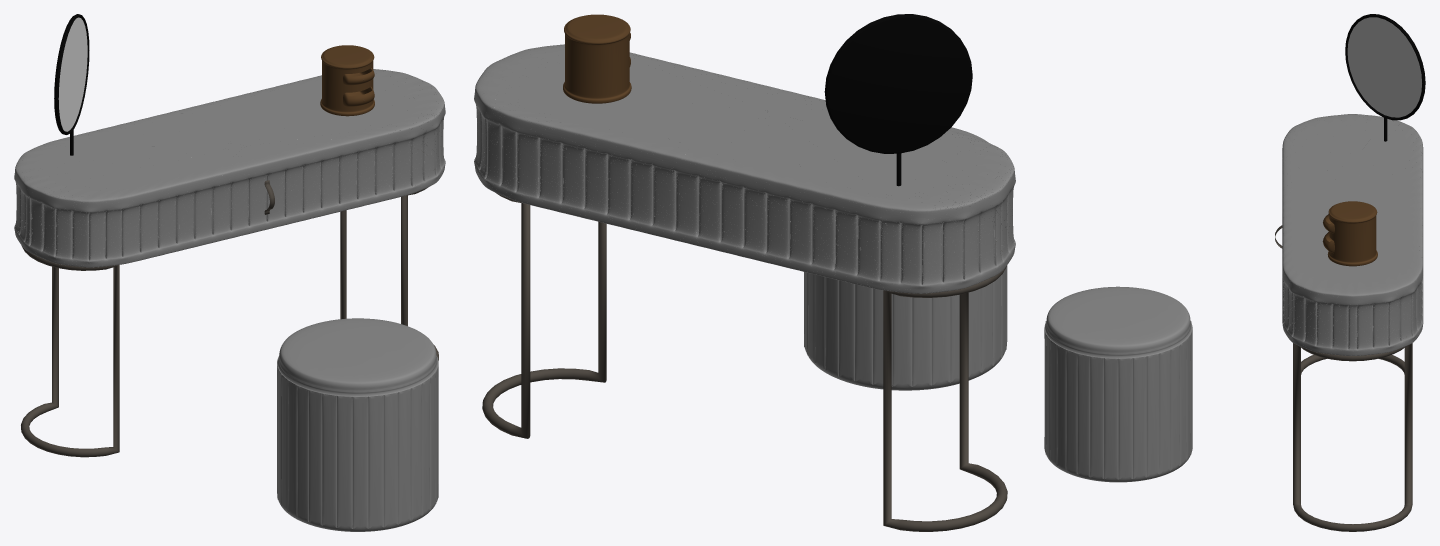
File: vanity.glb
3 views of the same model, side by side, from view 1: azimuth 30°, elevation 25°; view 2: azimuth 150°, elevation 25°; view 3: azimuth 270°, elevation 25° (orthographic). The views are drawn at different scales.
Parts seen in each view (by area): view 1: main desk_1, sittign coushion_4, Mirror_3, make up box_2, drawer _0; view 2: main desk_1, sittign coushion_4, Mirror_3, make up box_2; view 3: main desk_1, sittign coushion_4, Mirror_3, make up box_2.
Part boxes in pixels (x1,y1,x2,y2): main desk_1: [14, 69, 445, 457]; sittign coushion_4: [277, 318, 438, 531]; Mirror_3: [54, 14, 89, 155]; make up box_2: [320, 45, 374, 116]; drawer _0: [343, 68, 374, 106]; main desk_1: [474, 44, 1015, 531]; sittign coushion_4: [804, 127, 1007, 390]; Mirror_3: [824, 14, 972, 186]; make up box_2: [563, 14, 631, 103]; main desk_1: [1275, 114, 1423, 531]; sittign coushion_4: [1044, 286, 1192, 482]; Mirror_3: [1345, 14, 1425, 141]; make up box_2: [1327, 201, 1377, 266].
Bounding box in the file's own units: 2.76 × 2.69 × 2.44.
